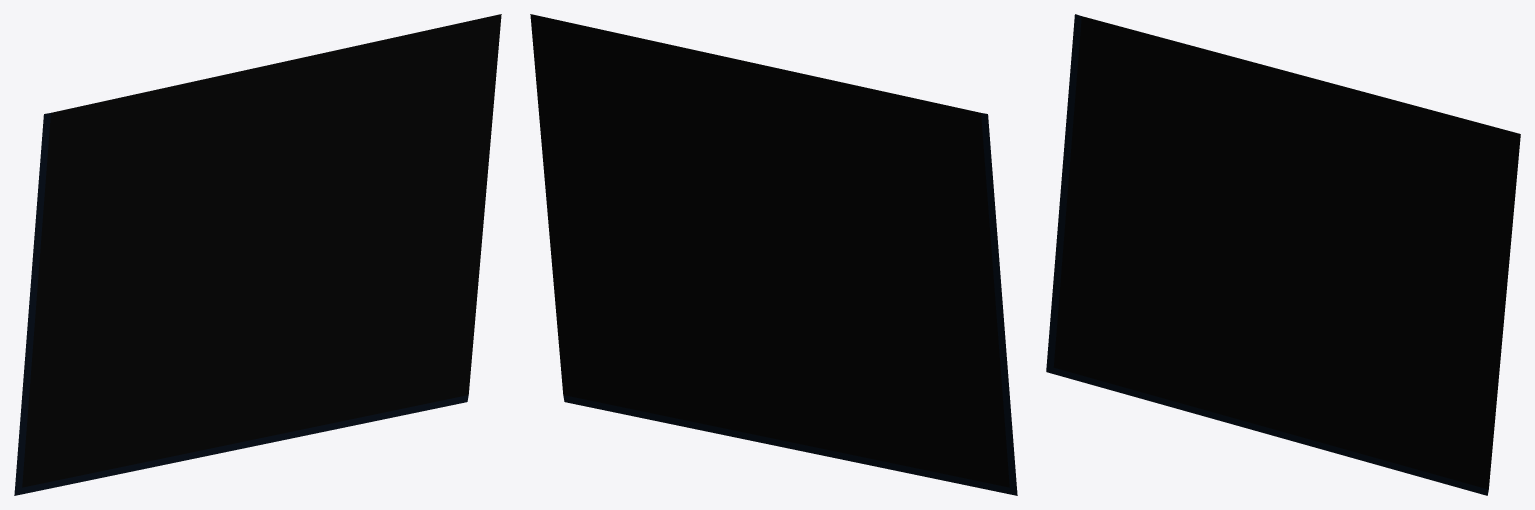
File: basePhotosPicC.glb
The picture shows the model from 3 angles, left to right: view 1: azimuth 30°, elevation 25°; view 2: azimuth 150°, elevation 25°; view 3: azimuth 330°, elevation 25°; orthographic projection. The views are drawn at different scales.
Visible parts, largest first — view 1: basePhotosPicC; view 2: basePhotosPicC; view 3: basePhotosPicC.
Part boxes in pixels (box(x1,y1,x2,y2)): basePhotosPicC: box(14, 14, 501, 495); basePhotosPicC: box(530, 14, 1017, 495); basePhotosPicC: box(1046, 14, 1520, 495).
Size of the model in its own units: 0.516 by 0.396 by 0.
